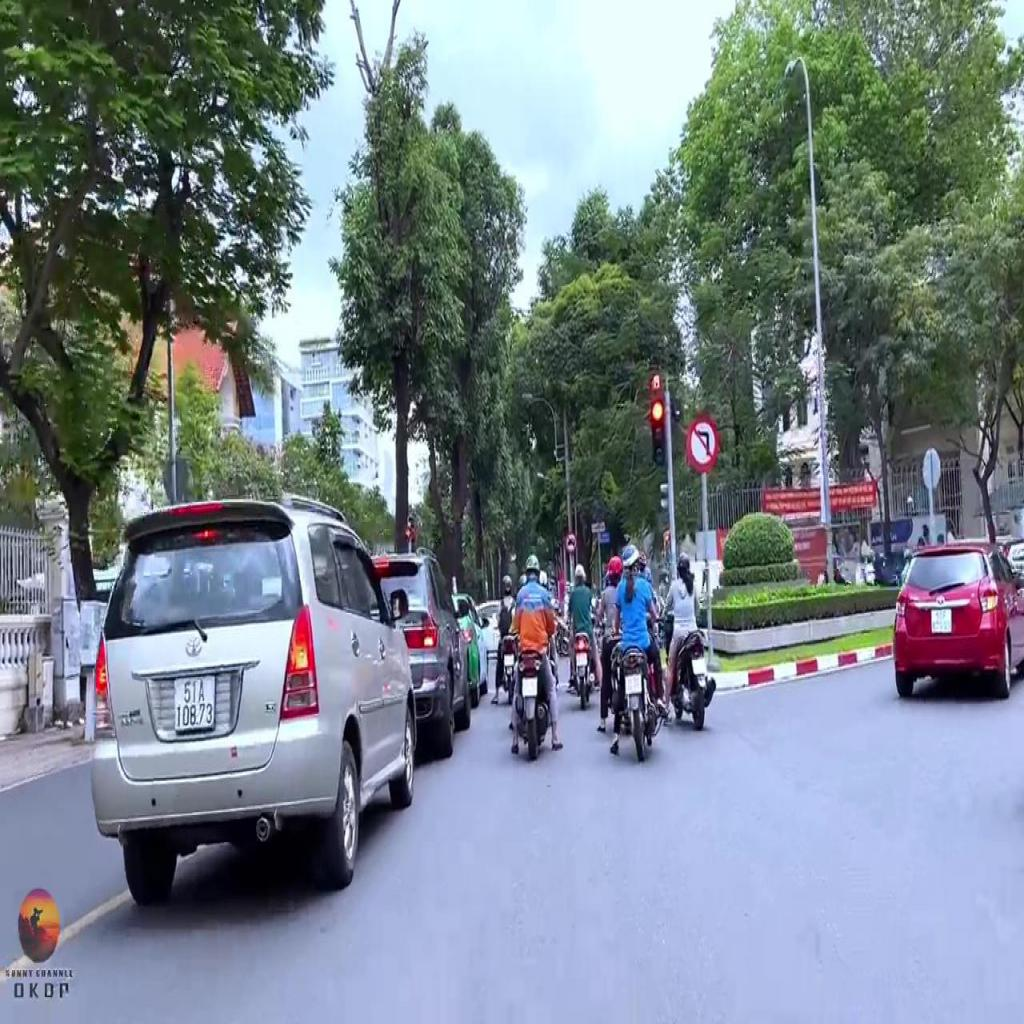cam_o_to_tai: (566, 532, 578, 553)
cam_re_trai: (688, 415, 718, 474)
